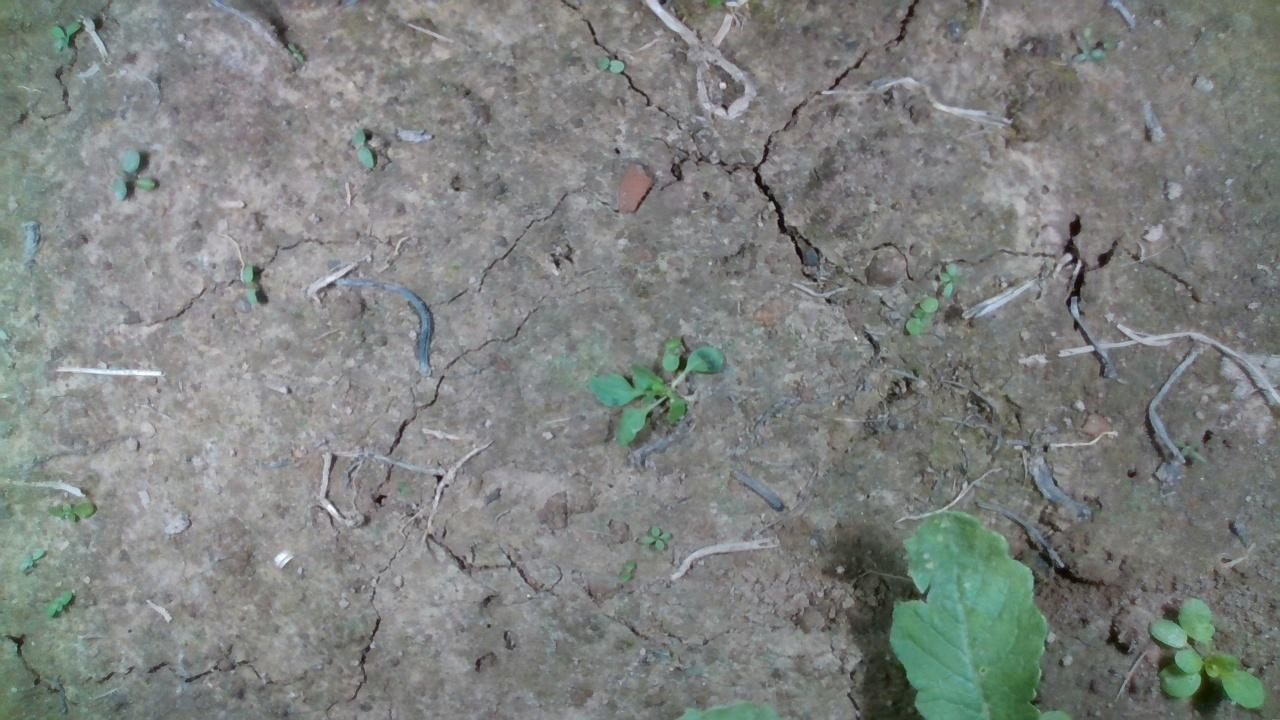weed: (109, 147, 157, 201), (903, 294, 938, 335), (44, 499, 95, 522), (350, 125, 374, 170), (41, 588, 73, 621), (636, 524, 670, 553), (15, 543, 44, 573), (239, 264, 259, 306), (595, 55, 625, 73), (286, 40, 303, 63), (619, 560, 636, 582)
